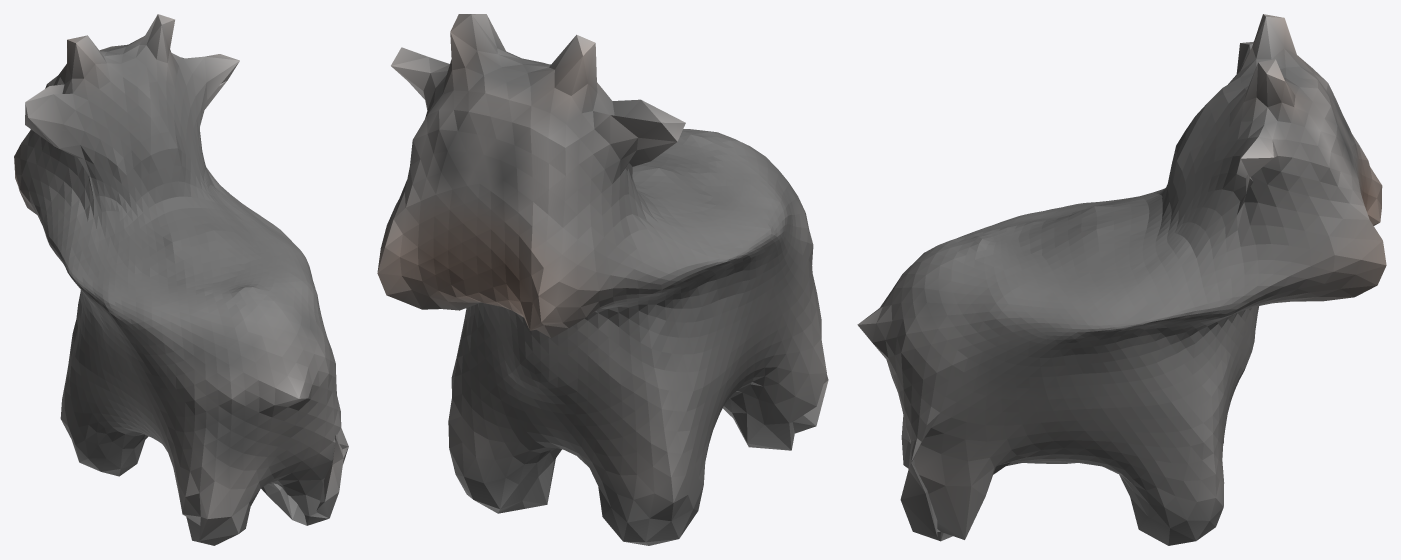
The model's file is colored_mesh_iter_0400.obj.
3 views of the same model, side by side, from view 1: azimuth 30°, elevation 25°; view 2: azimuth 150°, elevation 25°; view 3: azimuth 270°, elevation 25° (orthographic). The views are drawn at different scales.
Size of the model in its own units: 1.09 by 1.99 by 1.99.
